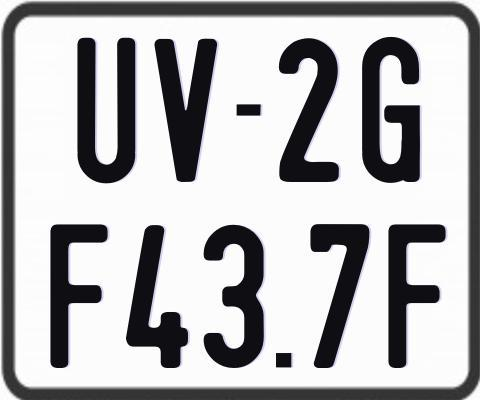2: (278, 36, 344, 180)
3: (204, 224, 269, 372)
4: (125, 224, 191, 373)
7: (308, 221, 367, 368)
F: (47, 222, 105, 372), (388, 223, 448, 367)
G: (361, 37, 423, 189)
U: (74, 38, 137, 185)
V: (153, 37, 216, 180)
